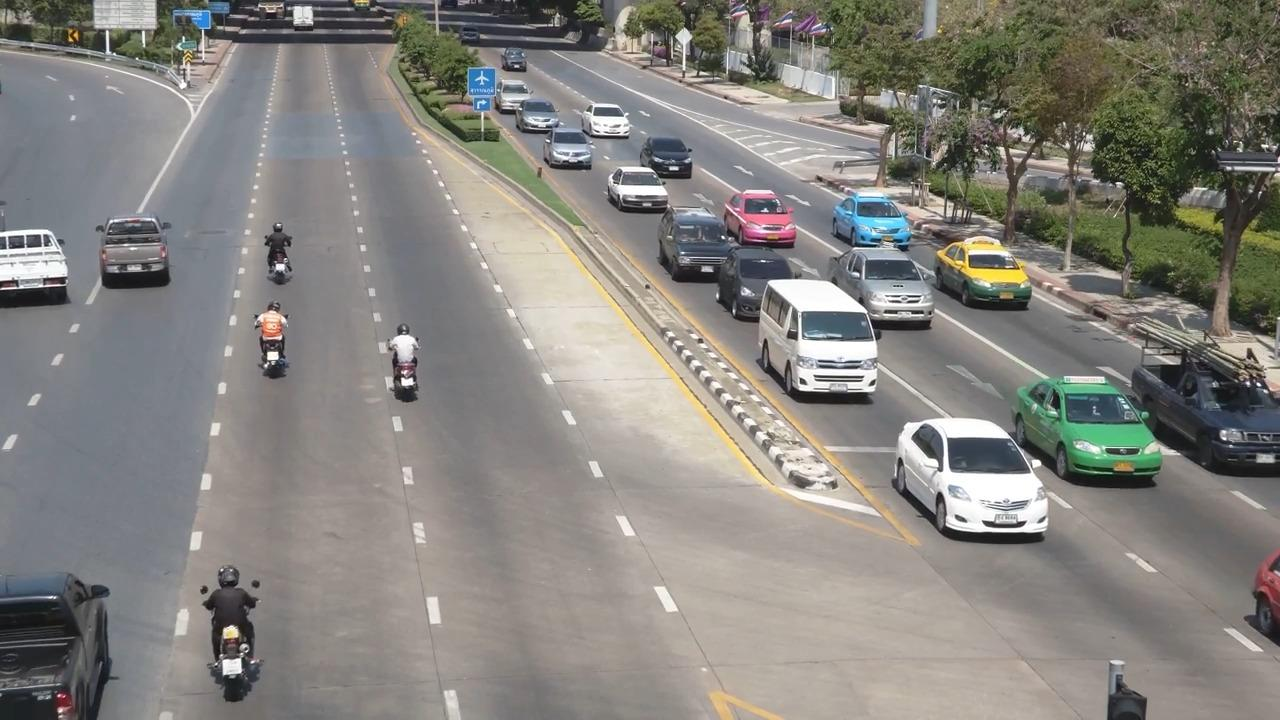CAR: (0, 549, 143, 720), (1122, 333, 1280, 484), (888, 411, 1054, 543), (1005, 365, 1175, 490), (761, 275, 884, 401), (87, 200, 196, 298), (0, 216, 90, 327), (934, 226, 1031, 310), (842, 248, 939, 327), (651, 203, 739, 285), (829, 183, 923, 252), (730, 185, 812, 253), (580, 95, 644, 151), (599, 155, 660, 213), (636, 128, 704, 178), (535, 118, 589, 167), (516, 87, 558, 135)
MOTOR: (187, 553, 284, 707), (378, 316, 442, 407), (245, 294, 306, 387), (260, 219, 308, 299)
